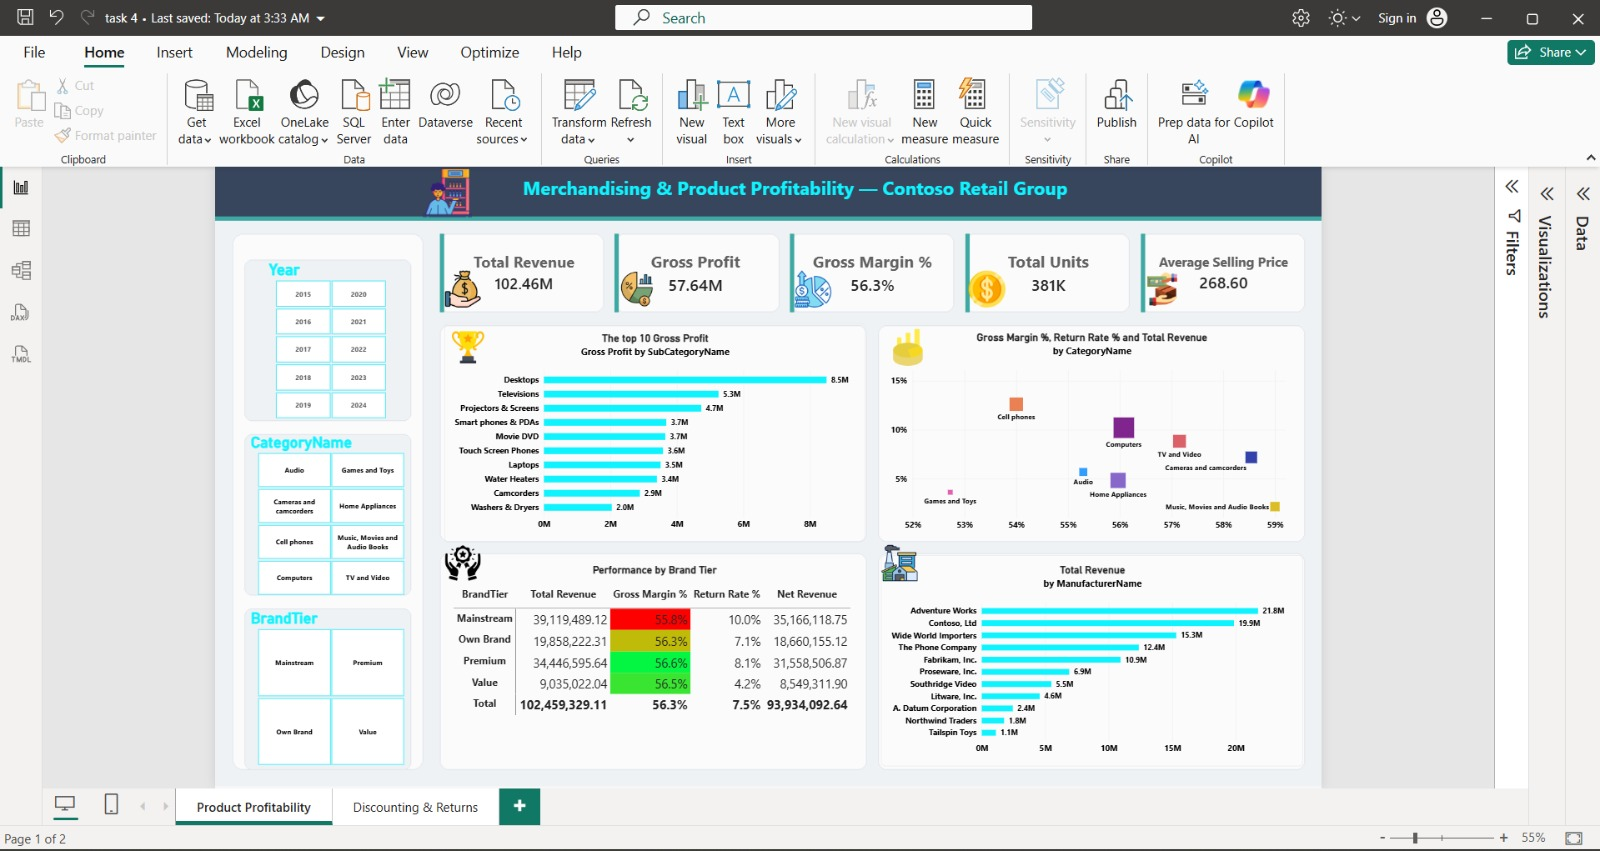

The dashboard page shown, as its layout file describes it:
{"tool":"powerbi","page":{"name":"Product Profitability","canvas":[1920,1080],"ordinal":0},"visuals":[{"type":"cardVisual","fields":{"Data":["_Measures.Average Selling Price"]},"box":[1611.7,123.5,277.9,123.5],"z":0},{"type":"cardVisual","fields":{"Data":["_Measures.Total Units"]},"box":[1309.1,123.5,277.9,123.5],"z":1000},{"type":"cardVisual","fields":{"Data":["_Measures.Gross Margin %"]},"box":[1006.5,123.5,271.7,123.5],"z":2000},{"type":"cardVisual","fields":{"Data":["_Measures.Gross Profit"]},"box":[691.6,123.5,286.1,123.5],"z":3000},{"type":"cardVisual","fields":{"Data":["_Measures.Total Revenue"]},"box":[397.3,123.5,277.9,123.5],"z":4000},{"type":"clusteredBarChart","title":"The top 10 Gross Profit","fields":{"Category":["product.SubCategoryName"],"Y":["_Measures.Gross Profit"]},"box":[397.3,271.7,730.7,380.8],"z":5000},{"type":"scatterChart","fields":{"Series":["product.CategoryName"],"Size":["_Measures.Total Revenue"],"X":["_Measures.Gross Margin %"],"Y":["_Measures.Return Rate %"]},"box":[1156.8,271.7,732.8,380.8],"z":6000},{"type":"pivotTable","title":"Performance by Brand Tier","fields":{"Rows":["manufacturer.BrandTier"],"Values":["_Measures.Total Revenue","_Measures.Gross Margin %","_Measures.Return Rate %","_Measures.Net Revenue"]},"box":[397.3,675.1,730.7,366.4],"z":7000},{"type":"clusteredBarChart","fields":{"Category":["manufacturer.ManufacturerName"],"Y":["_Measures.Total Revenue"]},"box":[1156.8,675.1,732.8,366.4],"z":8000},{"type":"slicer","fields":{"Values":["Date.Year"]},"box":[84.4,162.6,230.5,275.8],"z":9000},{"type":"slicer","fields":{"Values":["manufacturer.BrandTier"]},"box":[53.5,769.8,292.3,271.7],"z":10000},{"type":"slicer","fields":{"Values":["product.CategoryName"]},"box":[53.5,463.1,292.3,282],"z":11000},{"type":"textbox","box":[502.2,14.4,1008.6,84.4],"z":12000},{"type":"image","box":[397.3,177,63.8,70],"z":13000},{"type":"image","box":[1156.8,652.5,63.8,70],"z":14000},{"type":"image","box":[397.3,652.5,63.8,70],"z":15000},{"type":"image","box":[1171.2,277.9,63.8,70],"z":16000},{"type":"image","box":[407.5,277.9,63.8,70],"z":17000},{"type":"image","box":[699.8,177,63.8,70],"z":18000},{"type":"image","box":[1006.5,177,63.8,70],"z":19000},{"type":"image","box":[1309.1,177,63.8,70],"z":20000},{"type":"image","box":[1611.7,177,63.8,70],"z":21000},{"type":"image","box":[345.8,0,115.3,90.6],"z":21001}]}

Visuals, with their boxes on the page's 1920x1080 design canvas (x1, y1, x2, y2). These are canvas units, not pixel positions in the 1600x851 screenshot, which may show the page scaled, cropped or inside an application window:
cardVisual - _Measures.Average Selling Price: [1612, 124, 1890, 247]
cardVisual - _Measures.Total Units: [1309, 124, 1587, 247]
cardVisual - _Measures.Gross Margin %: [1006, 124, 1278, 247]
cardVisual - _Measures.Gross Profit: [692, 124, 978, 247]
cardVisual - _Measures.Total Revenue: [397, 124, 675, 247]
"The top 10 Gross Profit" clusteredBarChart: [397, 272, 1128, 652]
scatterChart - product.CategoryName x _Measures.Total Revenue: [1157, 272, 1890, 652]
"Performance by Brand Tier" pivotTable: [397, 675, 1128, 1042]
clusteredBarChart - manufacturer.ManufacturerName x _Measures.Total Revenue: [1157, 675, 1890, 1042]
slicer - Date.Year: [84, 163, 315, 438]
slicer - manufacturer.BrandTier: [54, 770, 346, 1042]
slicer - product.CategoryName: [54, 463, 346, 745]
textbox: [502, 14, 1511, 99]
image: [397, 177, 461, 247]
image: [1157, 652, 1221, 722]
image: [397, 652, 461, 722]
image: [1171, 278, 1235, 348]
image: [408, 278, 471, 348]
image: [700, 177, 764, 247]
image: [1006, 177, 1070, 247]
image: [1309, 177, 1373, 247]
image: [1612, 177, 1676, 247]
image: [346, 0, 461, 91]
